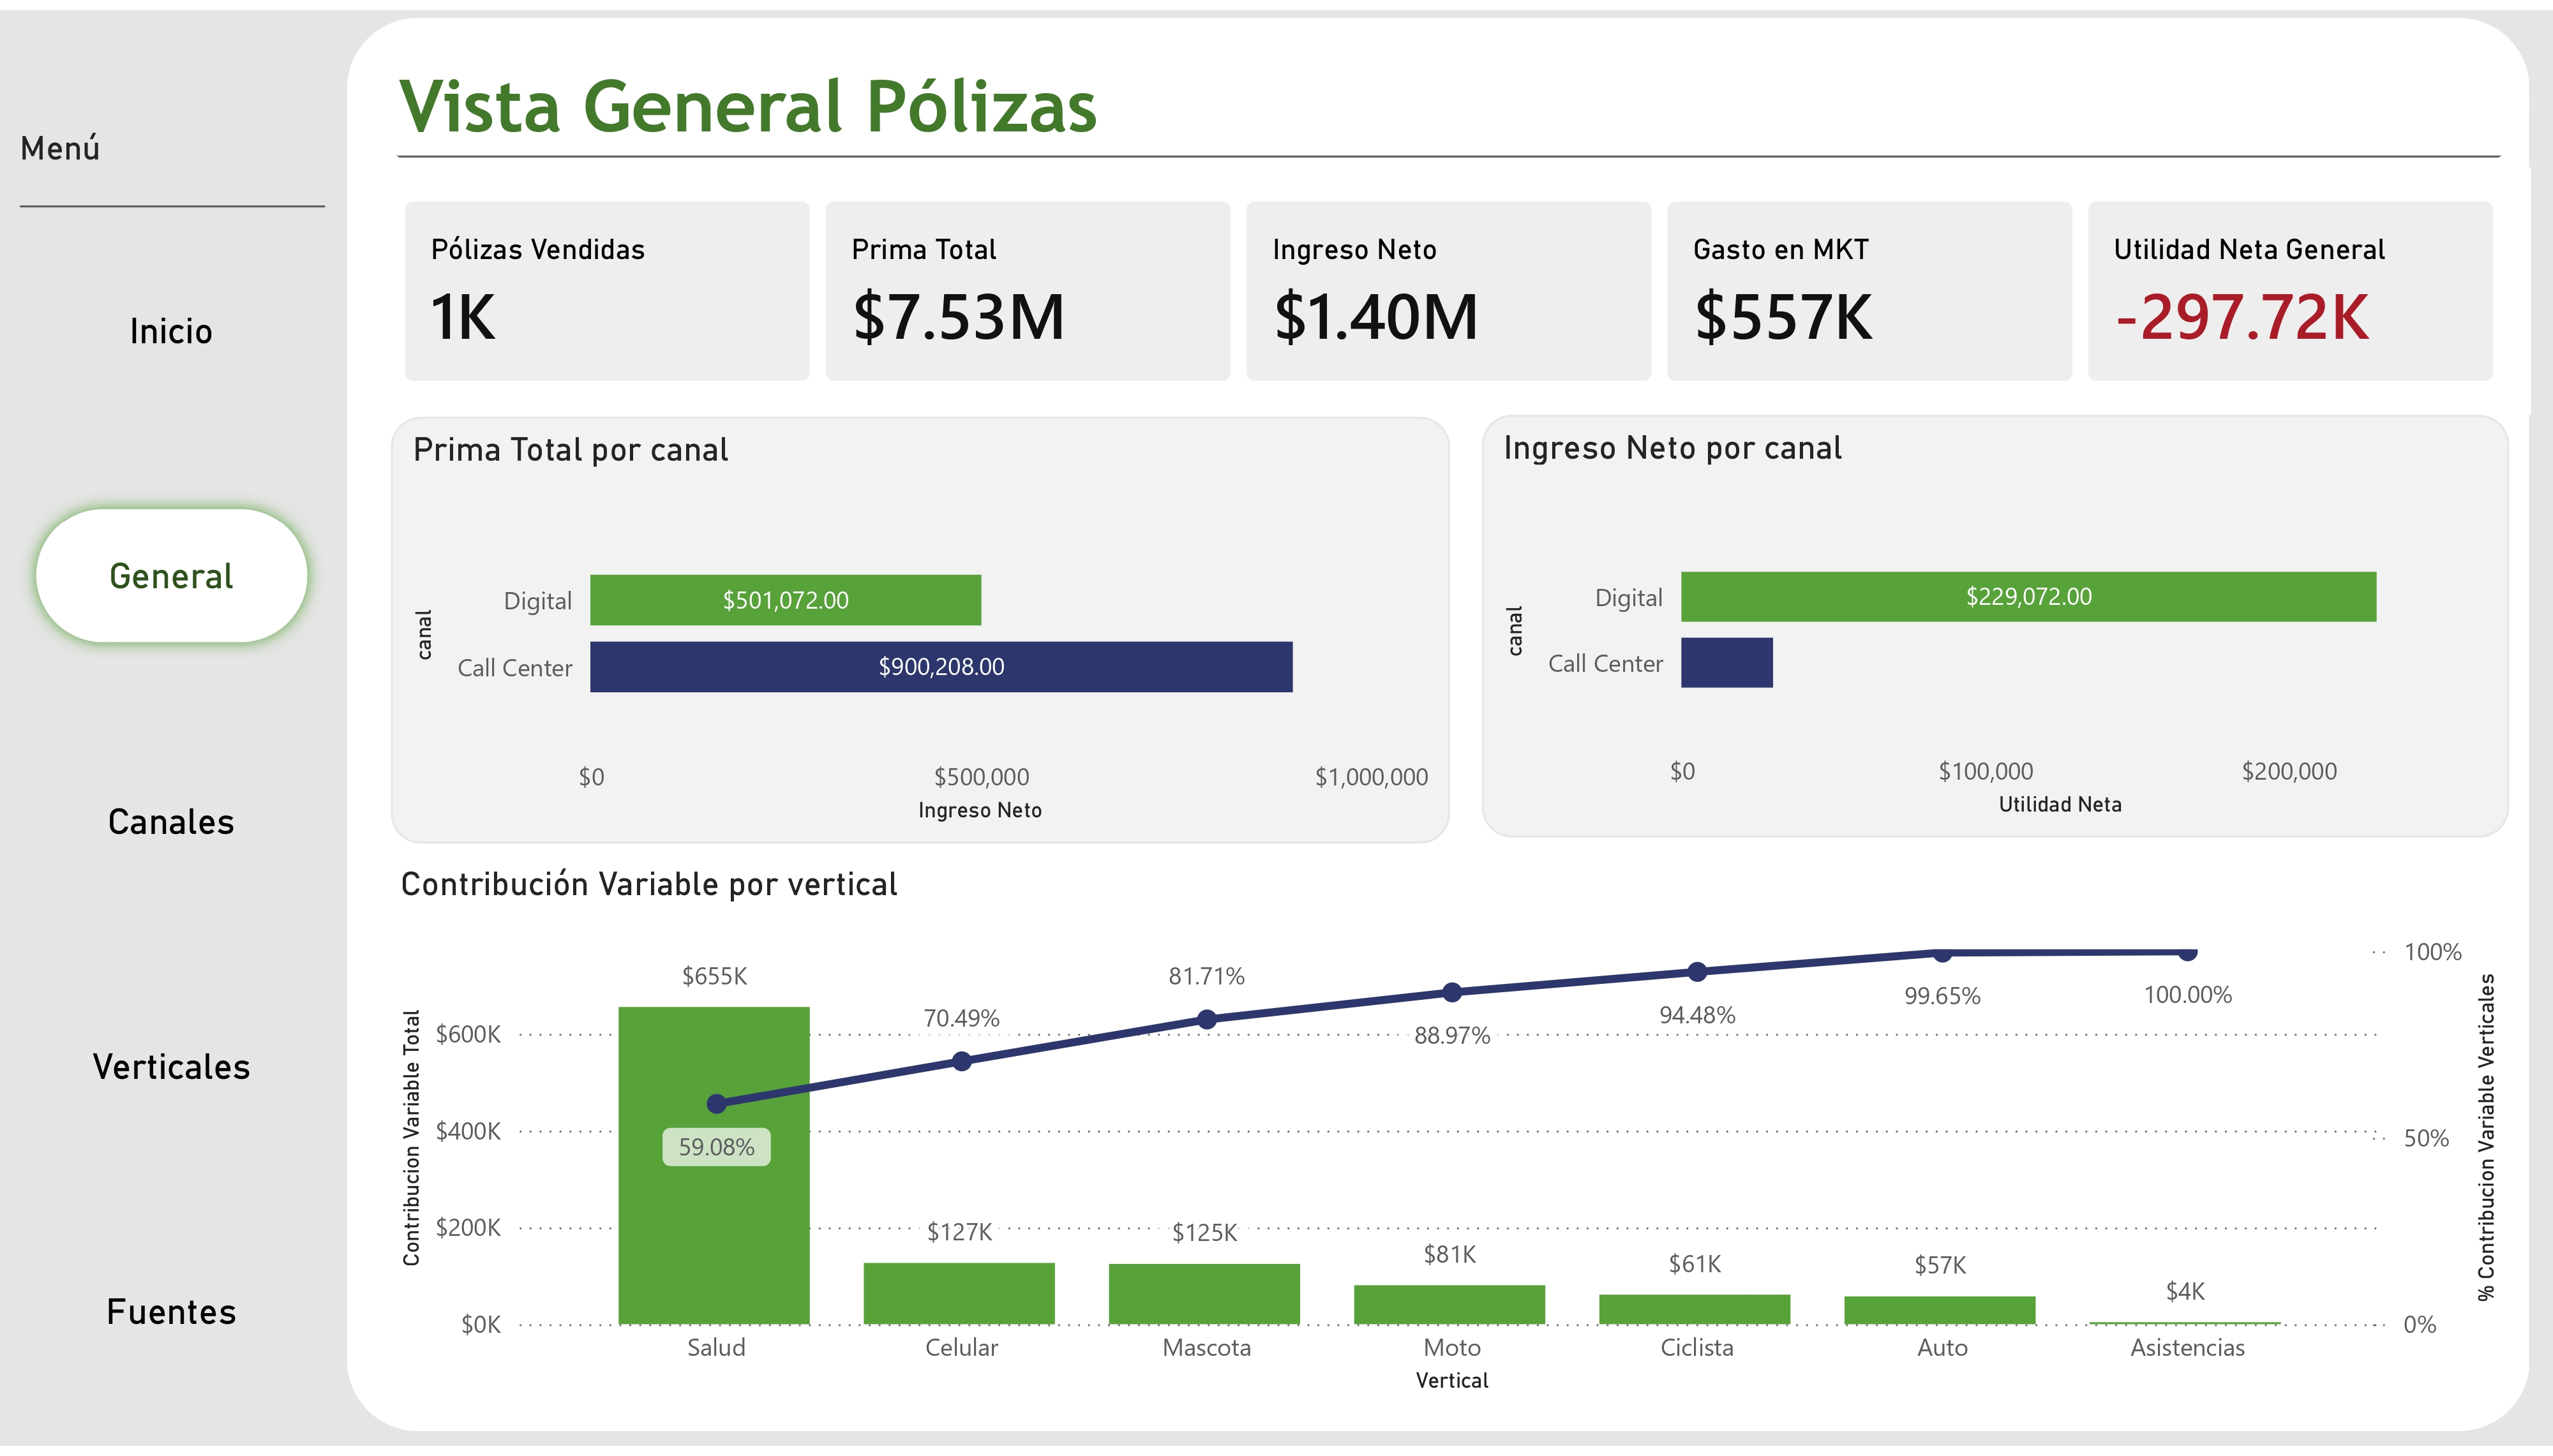

Layout of this report page (visuals, bound fields, positions):
{"tool":"powerbi","page":{"name":"General","canvas":[1280,720],"ordinal":1},"visuals":[{"type":"pageNavigator","title":"Menú","box":[10,58.8,152.5,638.8],"z":0},{"type":"shape","box":[174.3,4.3,1094.3,708.6],"z":1000},{"type":"textbox","title":"Vista General Pólizas","box":[185.3,17.4,1083.5,62.2],"z":2000},{"type":"cardVisual","fields":{"Data":["Sum(Ventas_Canal.cantidad)","Ventas_Canal.Ingreso Bruto","Ventas_Canal.Ingreso Neto","Canales.Gasto MKT Canal","Ventas_Canal.Utilidad Neta"]},"box":[185.7,78.6,1082.9,124.3],"z":3000},{"type":"barChart","title":"Prima Total por canal","fields":{"Y":["Ventas_Canal.Ingreso Neto"],"Series":["Canales.canal"],"Category":["Canales.canal"]},"box":[196.2,203.8,531.2,213.8],"z":4000},{"type":"barChart","title":"Ingreso Neto por canal","fields":{"Category":["Canales.canal"],"Y":["Ventas_Canal.Contribución Neta"],"Series":["Canales.canal"]},"box":[742.5,202.5,515.4,211.9],"z":5000},{"type":"lineStackedColumnComboChart","title":"Contribución Variable por vertical","fields":{"Category":["Verticales.vertical"],"Y":["Verticales.Contribucion Variable Total"],"Y2":["Verticales.% Contribucion Variable Verticales"]},"box":[196.2,427.5,1061.2,270],"z":7000}]}

Visuals, with their boxes in screenshot pixels (x1, y1, x2, y2), scaled from the page's 1280x720 canvas onto the 2553x1456 screenshot:
"Menú" pageNavigator: bbox=(20, 119, 324, 1411)
shape: bbox=(348, 9, 2530, 1441)
"Vista General Pólizas" textbox: bbox=(370, 35, 2531, 161)
cardVisual - Sum(Ventas_Canal.cantidad) x Ventas_Canal.Ingreso Bruto: bbox=(370, 159, 2530, 410)
"Prima Total por canal" barChart: bbox=(391, 412, 1451, 845)
"Ingreso Neto por canal" barChart: bbox=(1481, 410, 2509, 838)
"Contribución Variable por vertical" lineStackedColumnComboChart: bbox=(391, 865, 2508, 1411)
